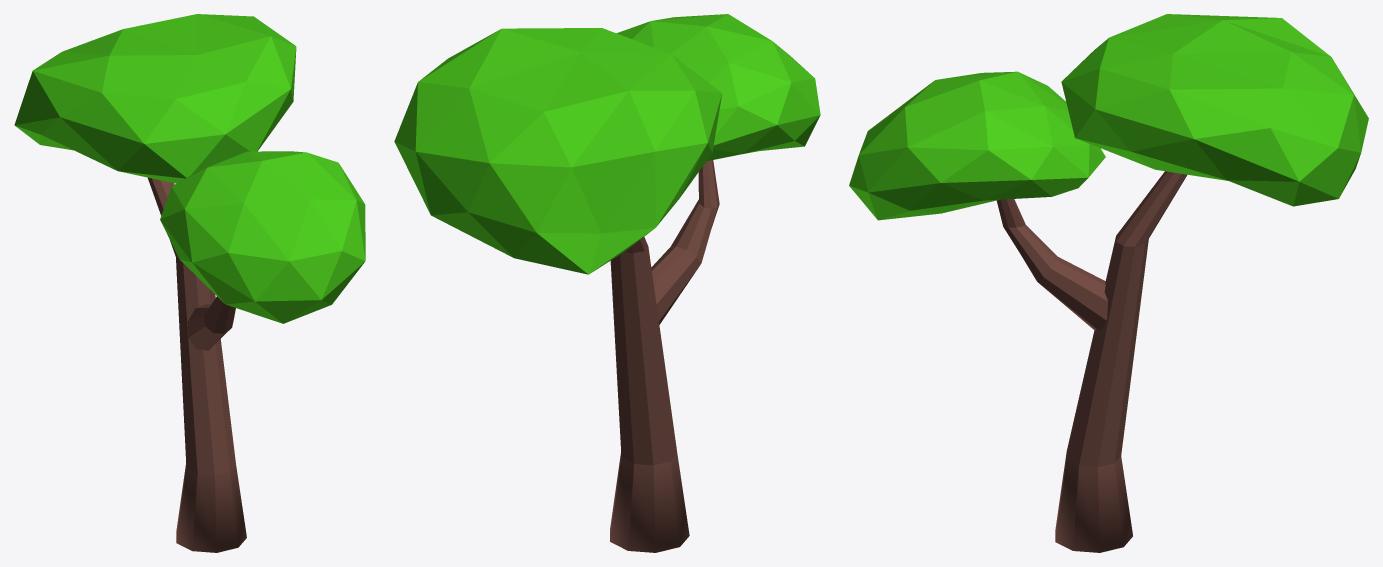
The model's file is Tree 1.fbx.
3 views of the same model, side by side, from view 1: azimuth 30°, elevation 25°; view 2: azimuth 150°, elevation 25°; view 3: azimuth 270°, elevation 25° (orthographic). The views are drawn at different scales.
Visible parts, largest first — view 1: Tree 1; view 2: Tree 1; view 3: Tree 1.
Boxes of the visible parts, x1,y1,x2,y2 form: Tree 1: (14,14,365,552); Tree 1: (394,14,820,552); Tree 1: (849,14,1368,552).
Size of the model in its own units: 161 by 298 by 282.
